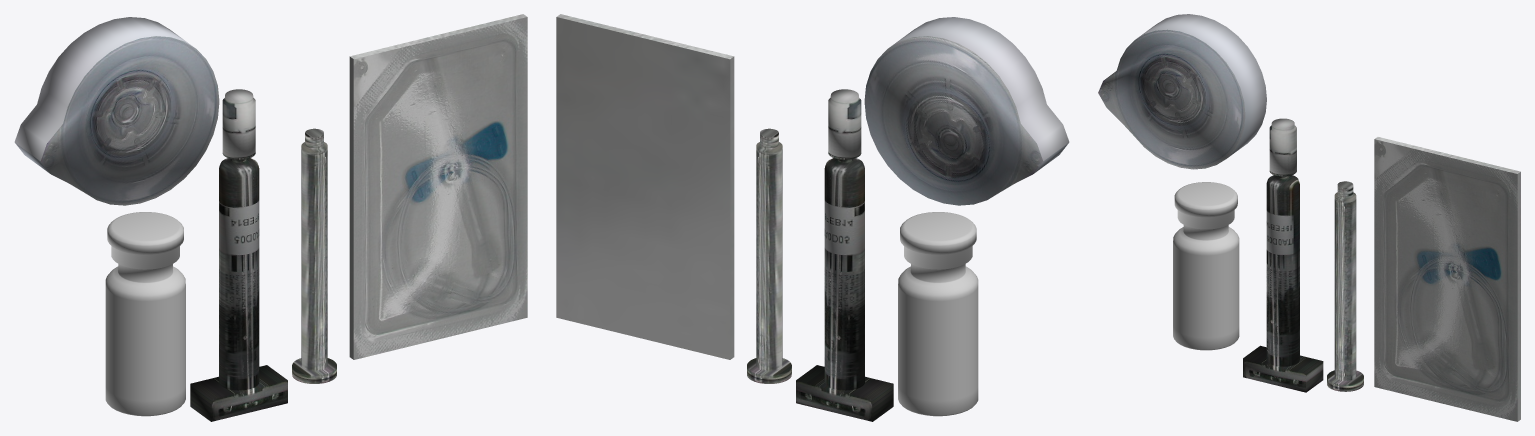
3 views of the same model, side by side, from view 1: azimuth 30°, elevation 25°; view 2: azimuth 150°, elevation 25°; view 3: azimuth 330°, elevation 25° (orthographic). The views are drawn at different scales.
Parts seen in each view (by area): view 1: 立方體.001, 圓柱體.003, 立方體, 圓柱體.001, 圓柱體, 圓柱體.002; view 2: 立方體.001, 圓柱體.003, 立方體, 圓柱體.001, 圓柱體, 圓柱體.002; view 3: 立方體.001, 圓柱體.003, 立方體, 圓柱體.001, 圓柱體, 圓柱體.002.
Part boxes in pixels (x1,y1,x2,y2): 立方體.001: (349,14,527,359); 圓柱體.003: (14,17,219,205); 立方體: (190,89,287,421); 圓柱體.001: (105,286,185,400); 圓柱體: (105,212,185,416); 圓柱體.002: (292,128,336,383); 立方體.001: (556,14,734,359); 圓柱體.003: (864,17,1069,205); 立方體: (796,89,893,421); 圓柱體.001: (898,286,978,400); 圓柱體: (898,212,978,416); 圓柱體.002: (747,128,791,383); 立方體.001: (1374,137,1520,421); 圓柱體.003: (1098,14,1266,169); 立方體: (1243,118,1323,392); 圓柱體.001: (1173,243,1239,337); 圓柱體: (1173,182,1239,350); 圓柱體.002: (1327,181,1363,391).
Size of the model in its own units: 866 by 671 by 121.
